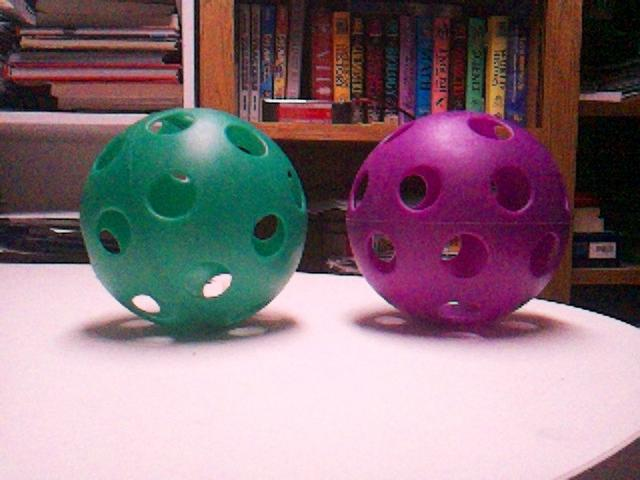Green: (79, 108, 306, 331)
Purple: (343, 113, 568, 326)
